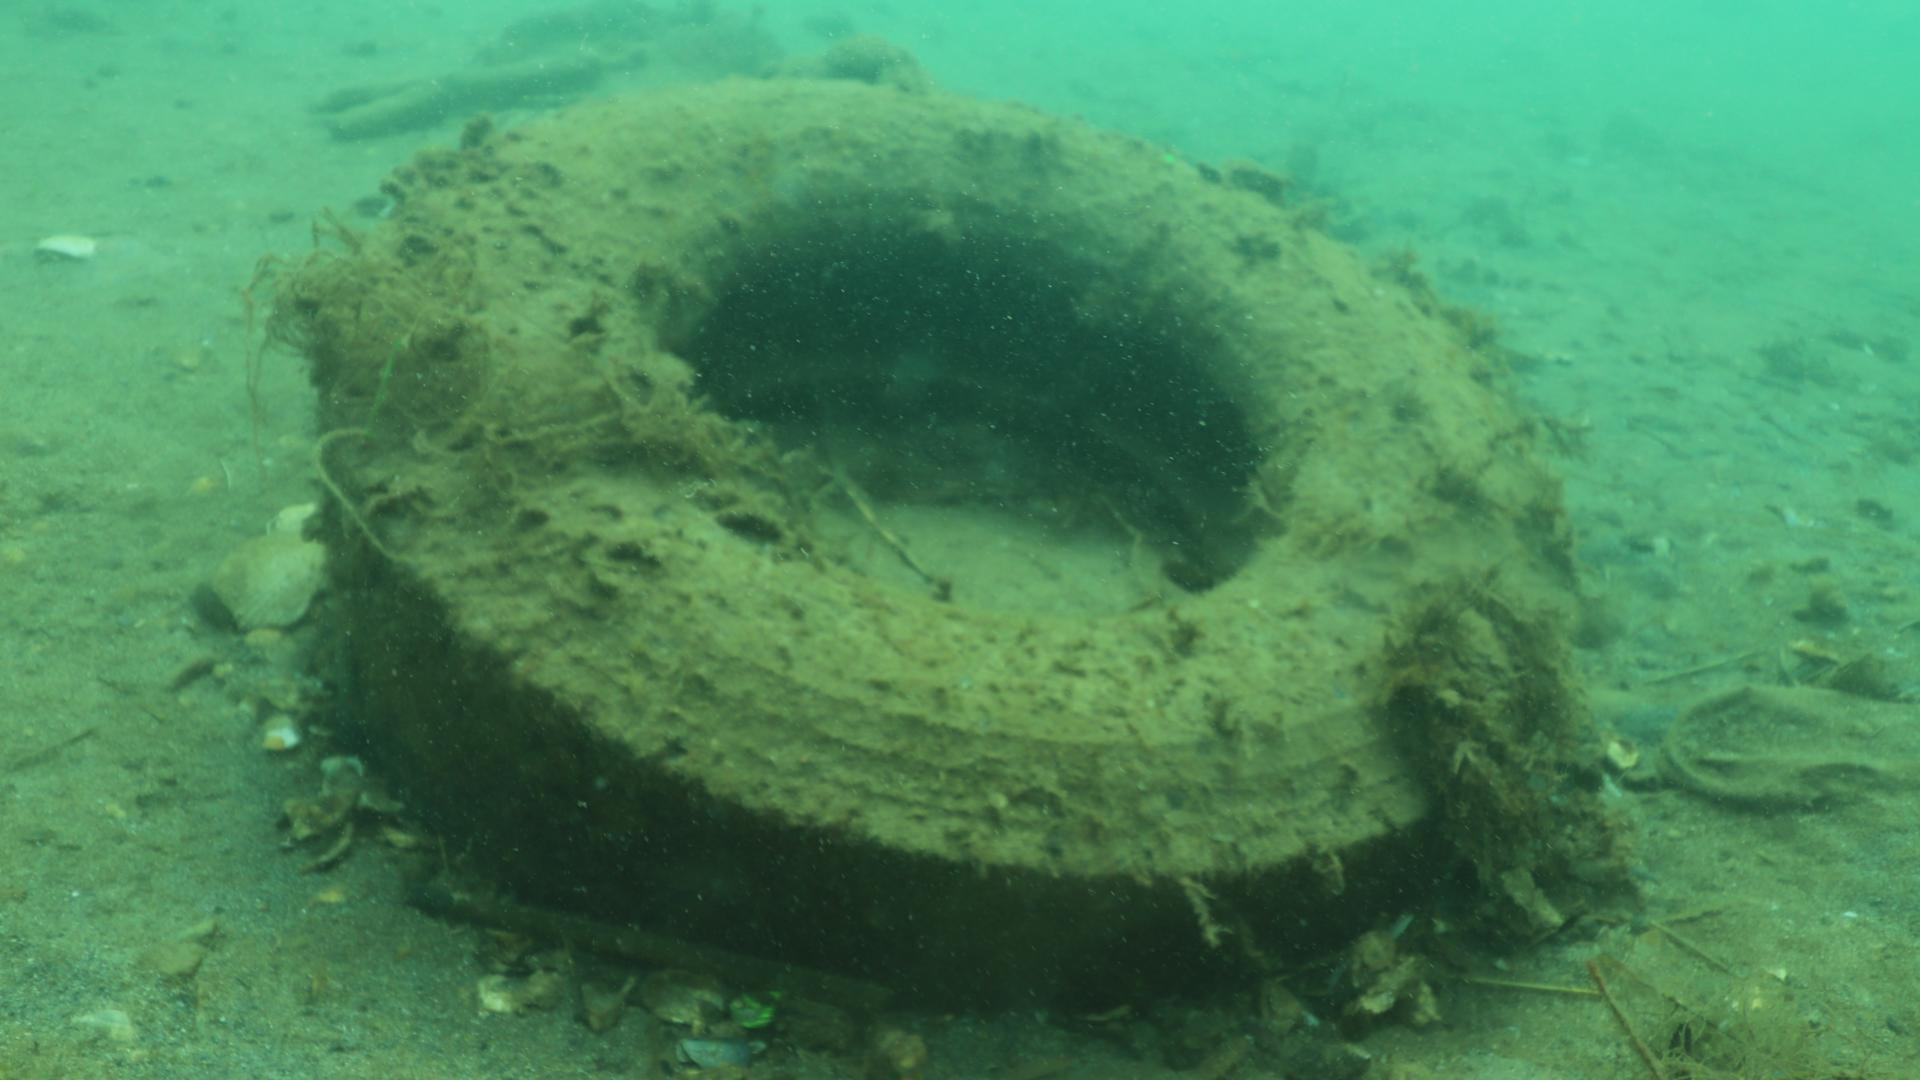tire: (314, 76, 1561, 1014)
